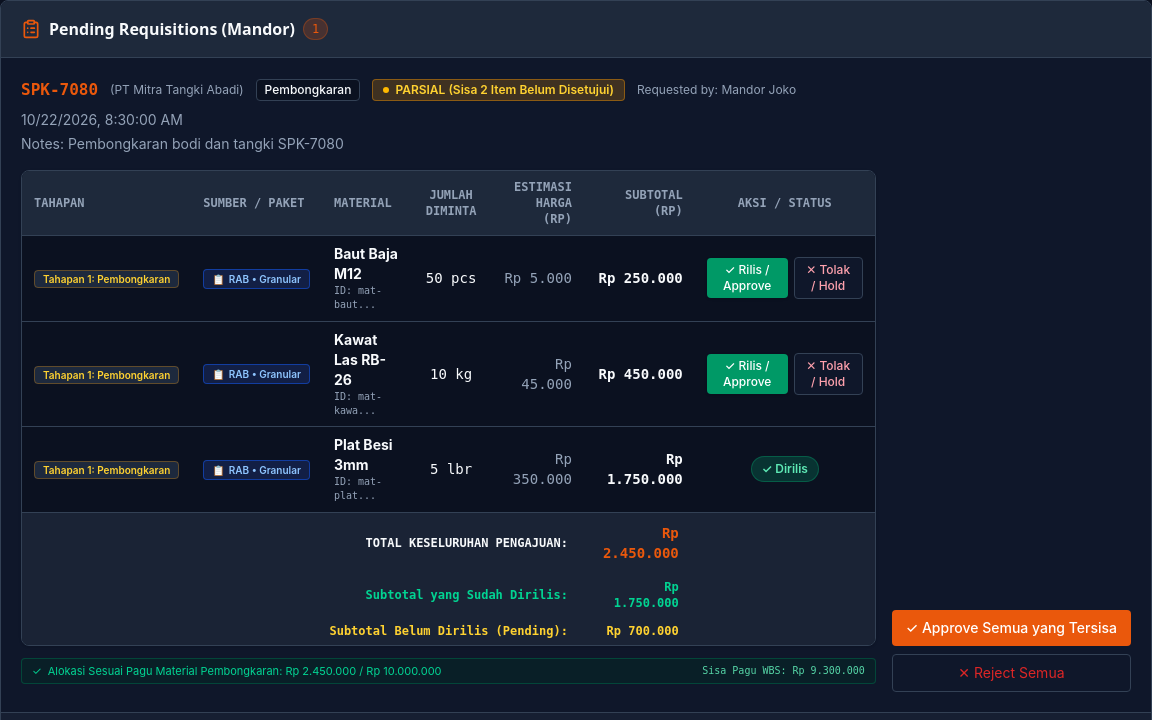
Test: Component: RequisitionApproval (Partially Issued Requisitions & Sidebar Counter Sync) › approving one of the pending items preserves PARTIALLY_ISSUED status and decreases pending item count
Expected: the text "SPK-7080" is shown, x1=21 y1=78 x2=98 y2=102
Note: Approve Baut Baja M12 (first active approve button)
What coordinates should you click on to do the following:
click the button "✓ Rilis / Approve" in the row of "Baut Baja M12"
I would click on:
 (747, 278)
Its box is x1=707 y1=258 x2=788 y2=298.
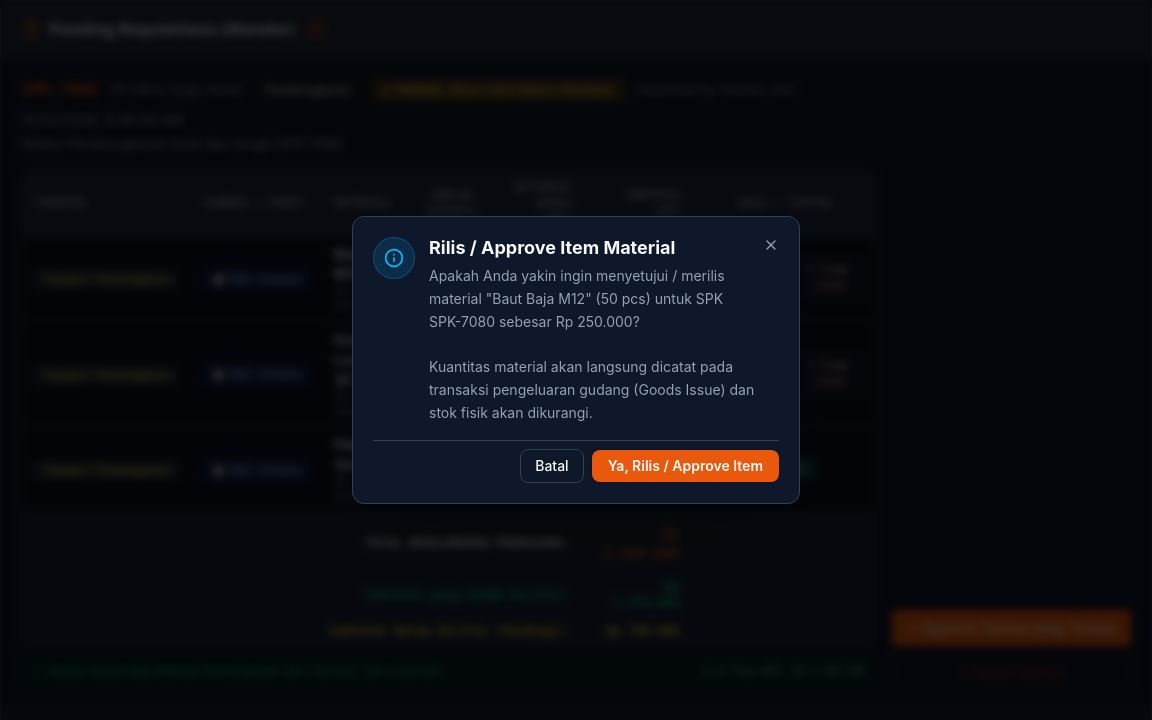
Expected: the text "Baut Baja M12" is shown, x1=334 y1=244 x2=399 y2=284
Result: the heading "Rilis / Approve Item Material" is shown at x1=429 y1=237 x2=675 y2=258
Note: Confirm approval
What coordinates should you click on to do the following:
click the button "Ya, Rilis / Approve Item"
I would click on:
 (685, 466)
Its box is x1=592 y1=450 x2=779 y2=482.
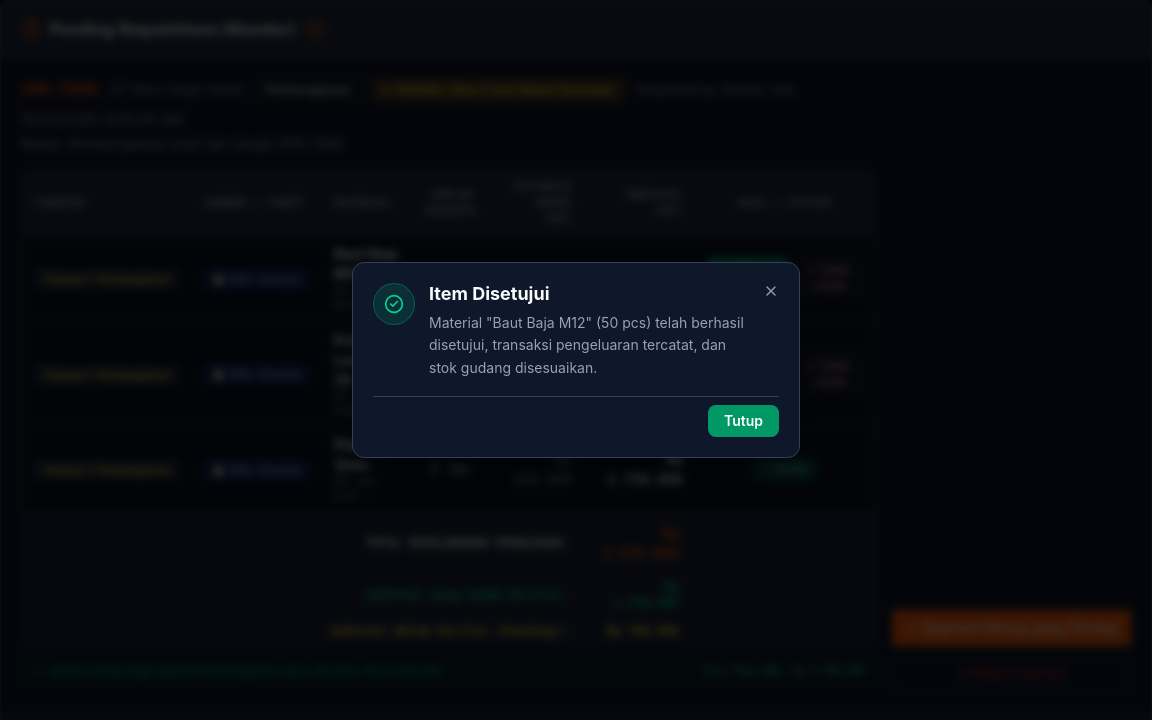
Result: the heading "Item Disetujui" is shown at x1=429 y1=283 x2=550 y2=304
